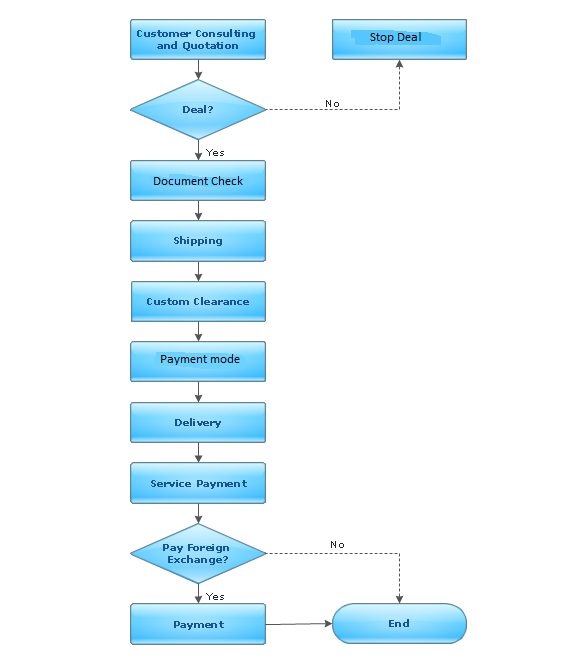arrow: (262, 548, 406, 604), (266, 59, 407, 116), (264, 617, 336, 627), (193, 579, 207, 605), (193, 440, 208, 464), (193, 56, 206, 80), (193, 200, 206, 223), (194, 259, 206, 283), (193, 320, 206, 342), (194, 137, 205, 161), (194, 500, 203, 523), (195, 381, 203, 405)
decision: (128, 521, 269, 584), (129, 77, 269, 140)
process: (127, 457, 270, 508), (128, 156, 270, 204), (127, 16, 270, 62), (328, 17, 469, 63), (127, 338, 268, 384), (129, 400, 269, 446), (130, 278, 269, 324), (127, 218, 268, 263)
terminator: (331, 600, 471, 646)
text: (134, 27, 257, 52), (160, 542, 231, 567), (145, 295, 252, 308), (159, 352, 242, 367), (148, 478, 249, 490), (150, 173, 246, 185), (368, 30, 425, 46), (171, 231, 224, 248), (171, 416, 224, 432), (170, 617, 226, 632), (181, 102, 216, 116), (202, 145, 232, 158), (386, 616, 414, 629), (328, 538, 349, 552), (204, 591, 228, 603), (324, 97, 342, 110)
